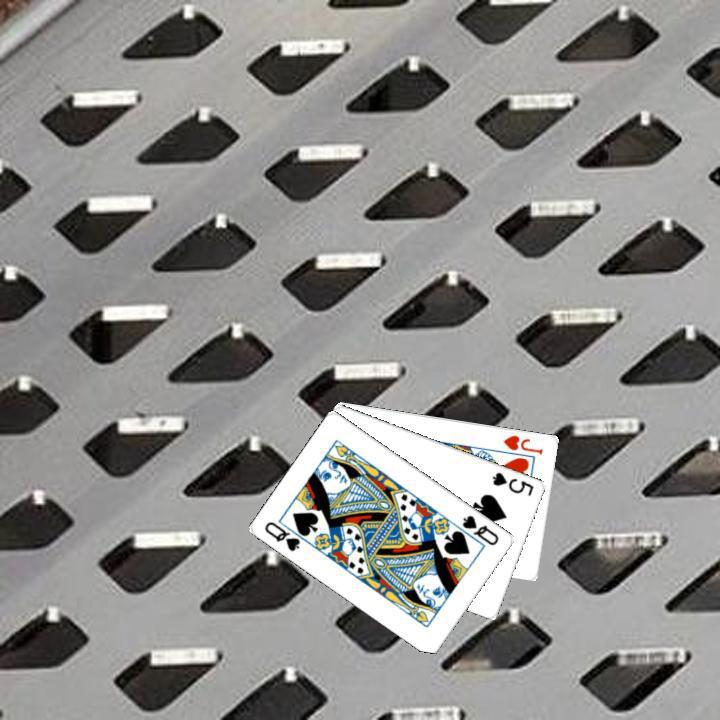5: (488, 467, 536, 498)
J: (499, 430, 545, 456)
Q: (458, 511, 501, 548), (260, 517, 303, 553)
